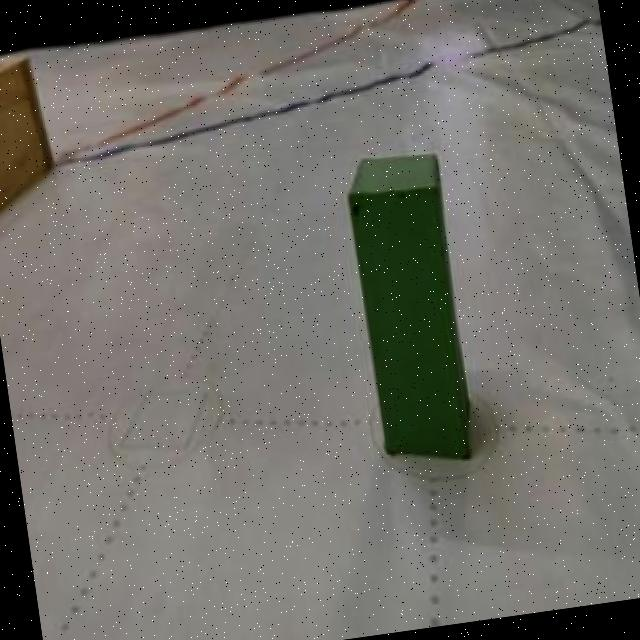greenbox: (336, 141, 481, 468)
